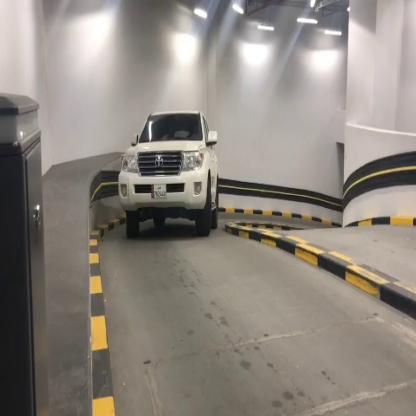np: (149, 176, 169, 204)
